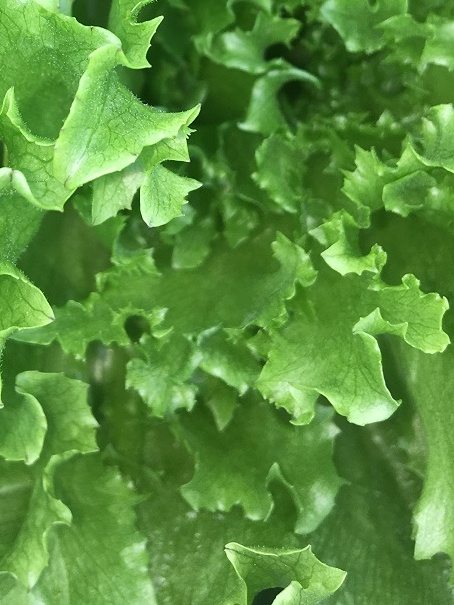tipburn: (217, 539, 237, 557)
